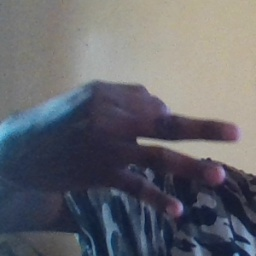K: (22, 78, 240, 218)
